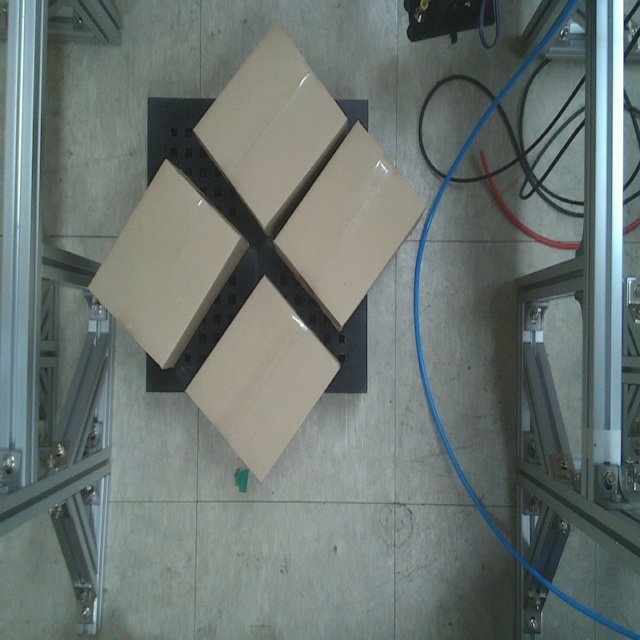box: (184, 274, 341, 484), (192, 20, 348, 230), (272, 120, 429, 328), (87, 159, 242, 368)
